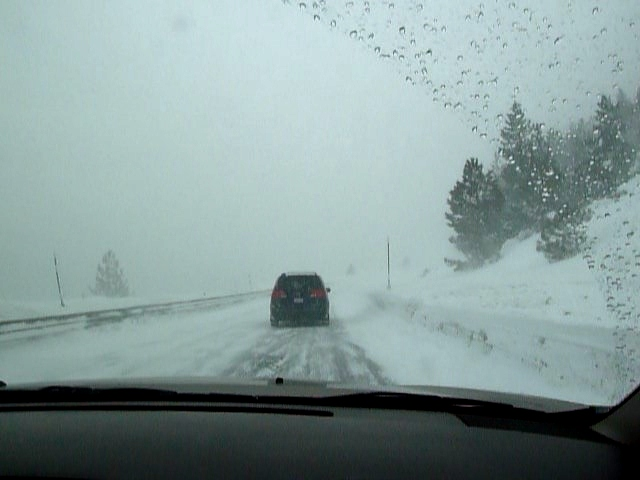car: (269, 270, 333, 333)
